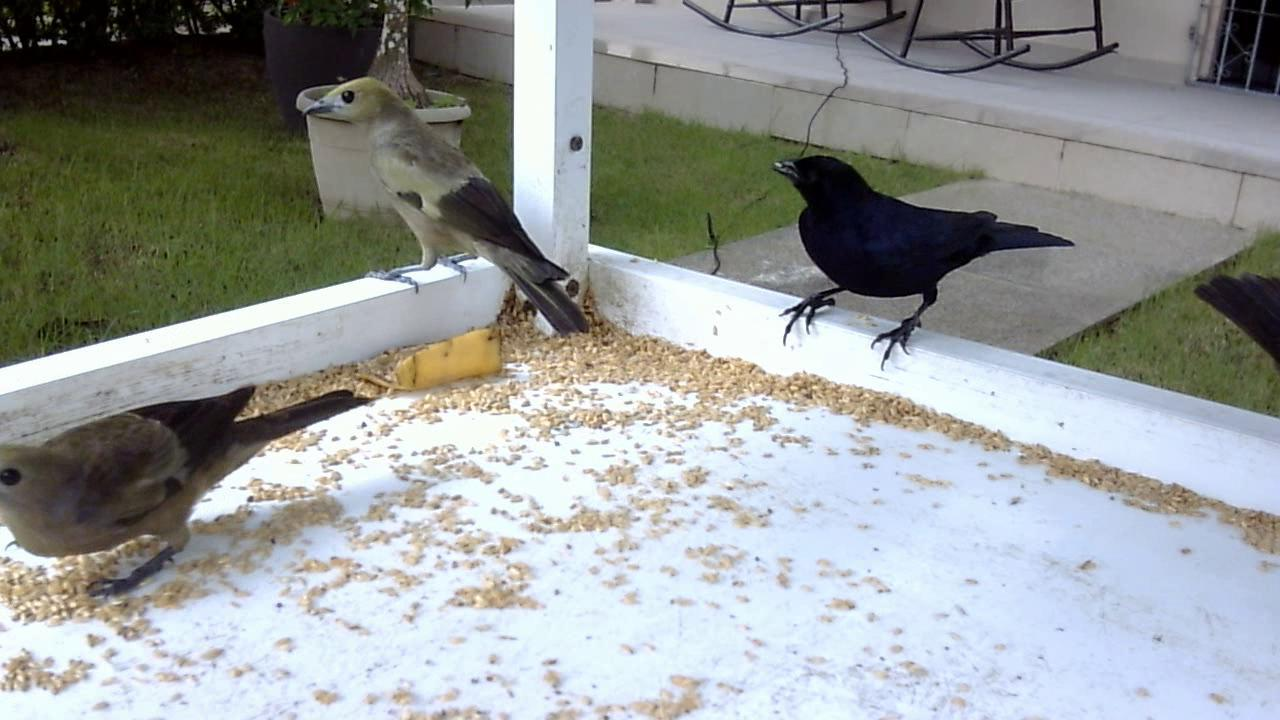chupim: (756, 149, 1079, 379)
sanhaco_do_coqueiro: (6, 378, 372, 609), (312, 78, 586, 338)
